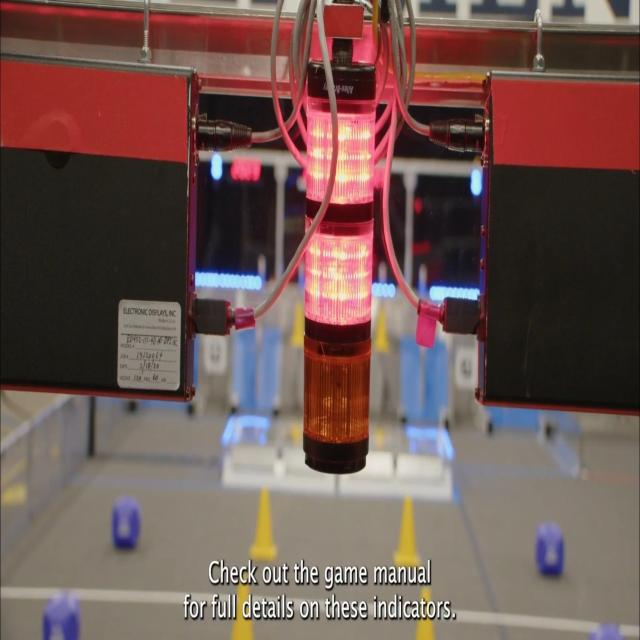frc_cone: (248, 484, 278, 563), (393, 497, 422, 568), (230, 570, 256, 638), (414, 589, 437, 639)
frc_cube: (41, 589, 80, 639), (535, 520, 565, 577), (112, 496, 142, 548), (590, 622, 622, 638)
